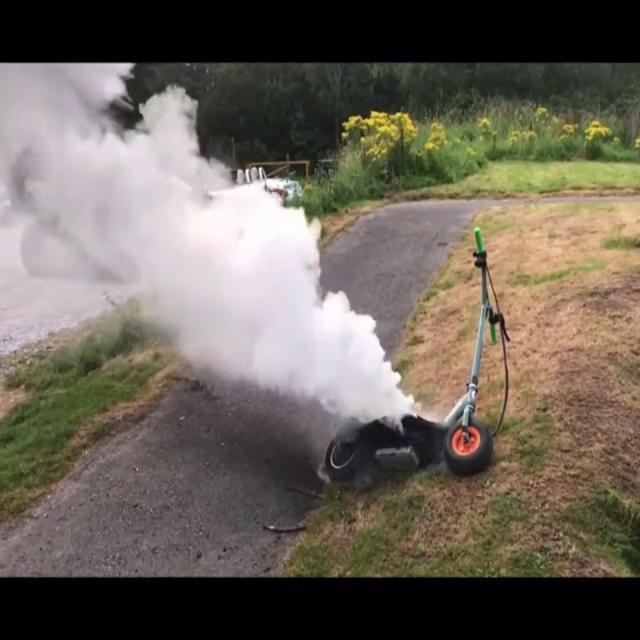Smoke: (0, 66, 403, 419)
